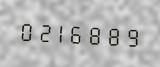eight: (89, 20, 106, 48), (107, 21, 124, 49)
nine: (125, 22, 142, 50)
one: (53, 18, 70, 46)
six: (71, 19, 88, 47)
two: (35, 17, 52, 45)
zero: (17, 16, 34, 44)
